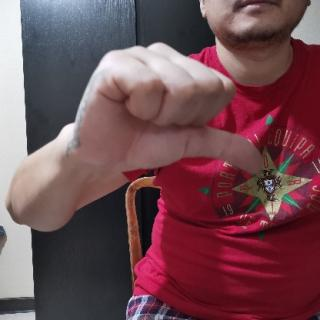WAW: (65, 39, 270, 180)
